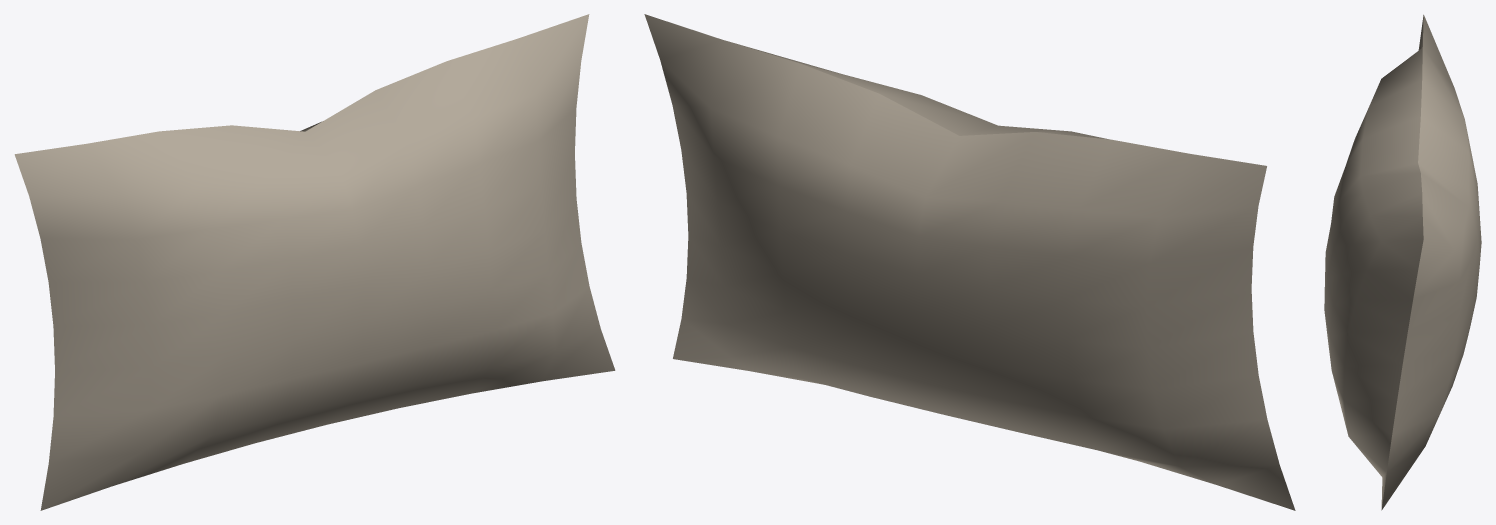
The model's file is decor_c_cushion_lumbar.gltf.
3 views of the same model, side by side, from view 1: azimuth 30°, elevation 25°; view 2: azimuth 150°, elevation 25°; view 3: azimuth 270°, elevation 25° (orthographic). The views are drawn at different scales.
Visible parts, largest first — view 1: DecorC_CushionLumbar_Oat_NoCollide; view 2: DecorC_CushionLumbar_Oat_NoCollide; view 3: DecorC_CushionLumbar_Oat_NoCollide.
Part boxes in pixels (bbox=[...]): DecorC_CushionLumbar_Oat_NoCollide: bbox=[14, 14, 615, 510]; DecorC_CushionLumbar_Oat_NoCollide: bbox=[644, 14, 1295, 510]; DecorC_CushionLumbar_Oat_NoCollide: bbox=[1324, 14, 1481, 510].
Size of the model in its own units: 0.6 by 0.3367 by 0.1768.
